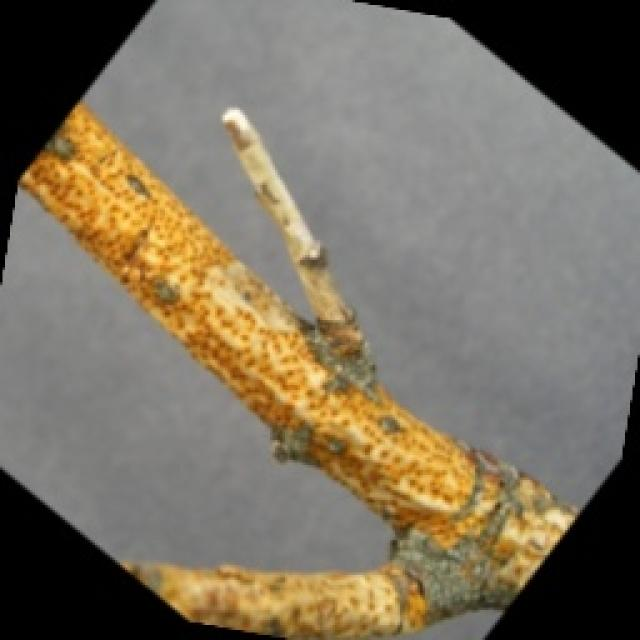Golden_canker: (12, 92, 580, 638)
